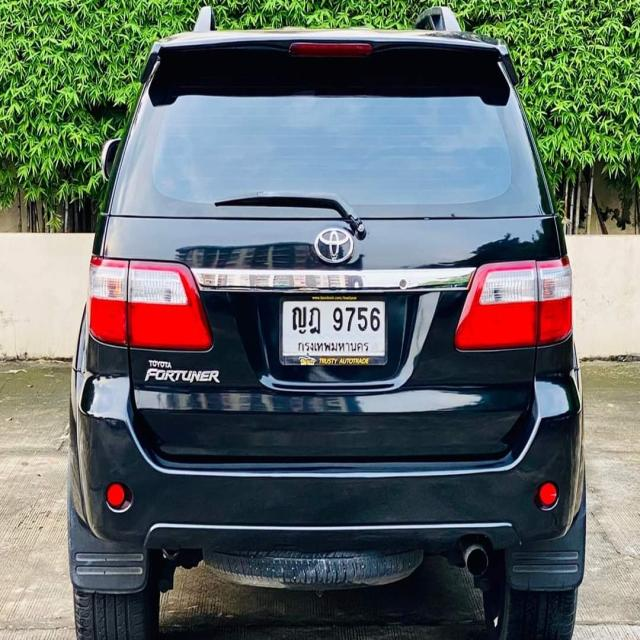license_plate: (279, 296, 388, 369)
